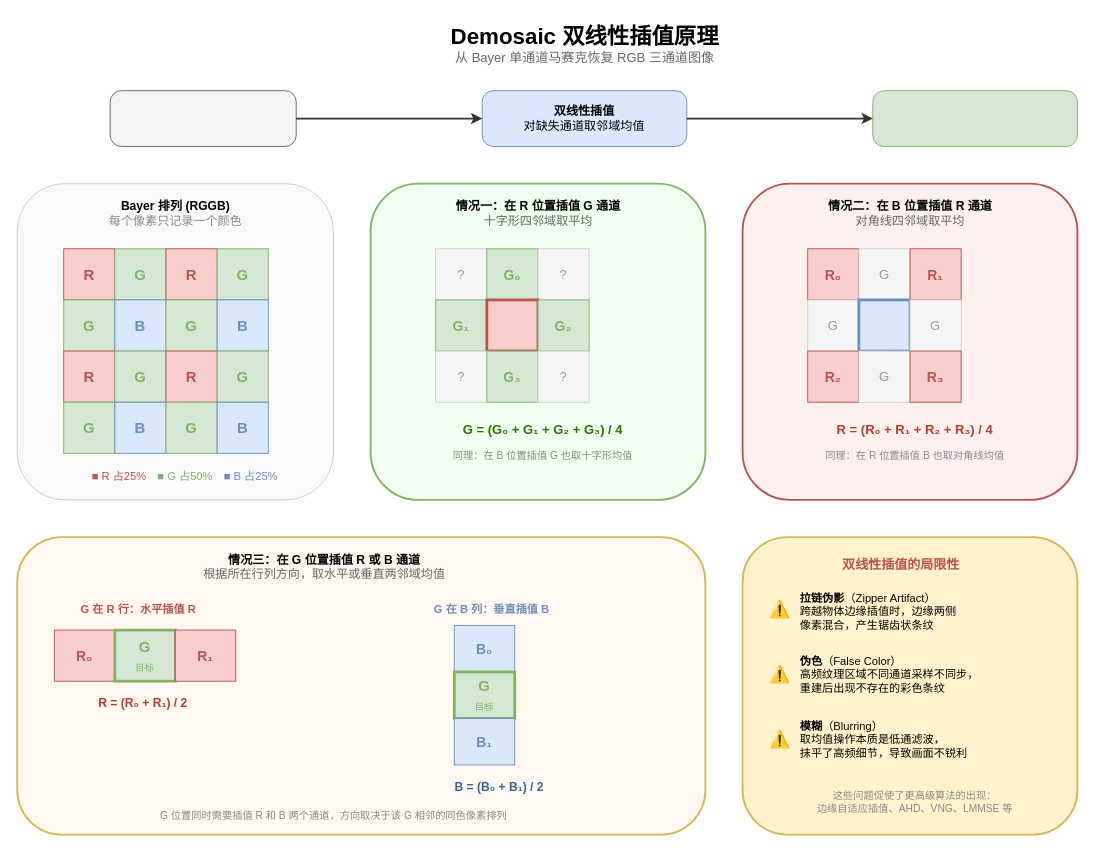
Image size: 1094x851. Some labels were removed from this diagram. Here are the shapes that lost their labels. From the top down, the centre of each, then its label:
At pixel 202 118: "Bayer RAW 每像素仅1个颜色通道".
At pixel 974 118: "完整 RGB 每像素具有R、G、B三通道".
At pixel 512 325: "R 目标".
At pixel 884 325: "B 目标".
